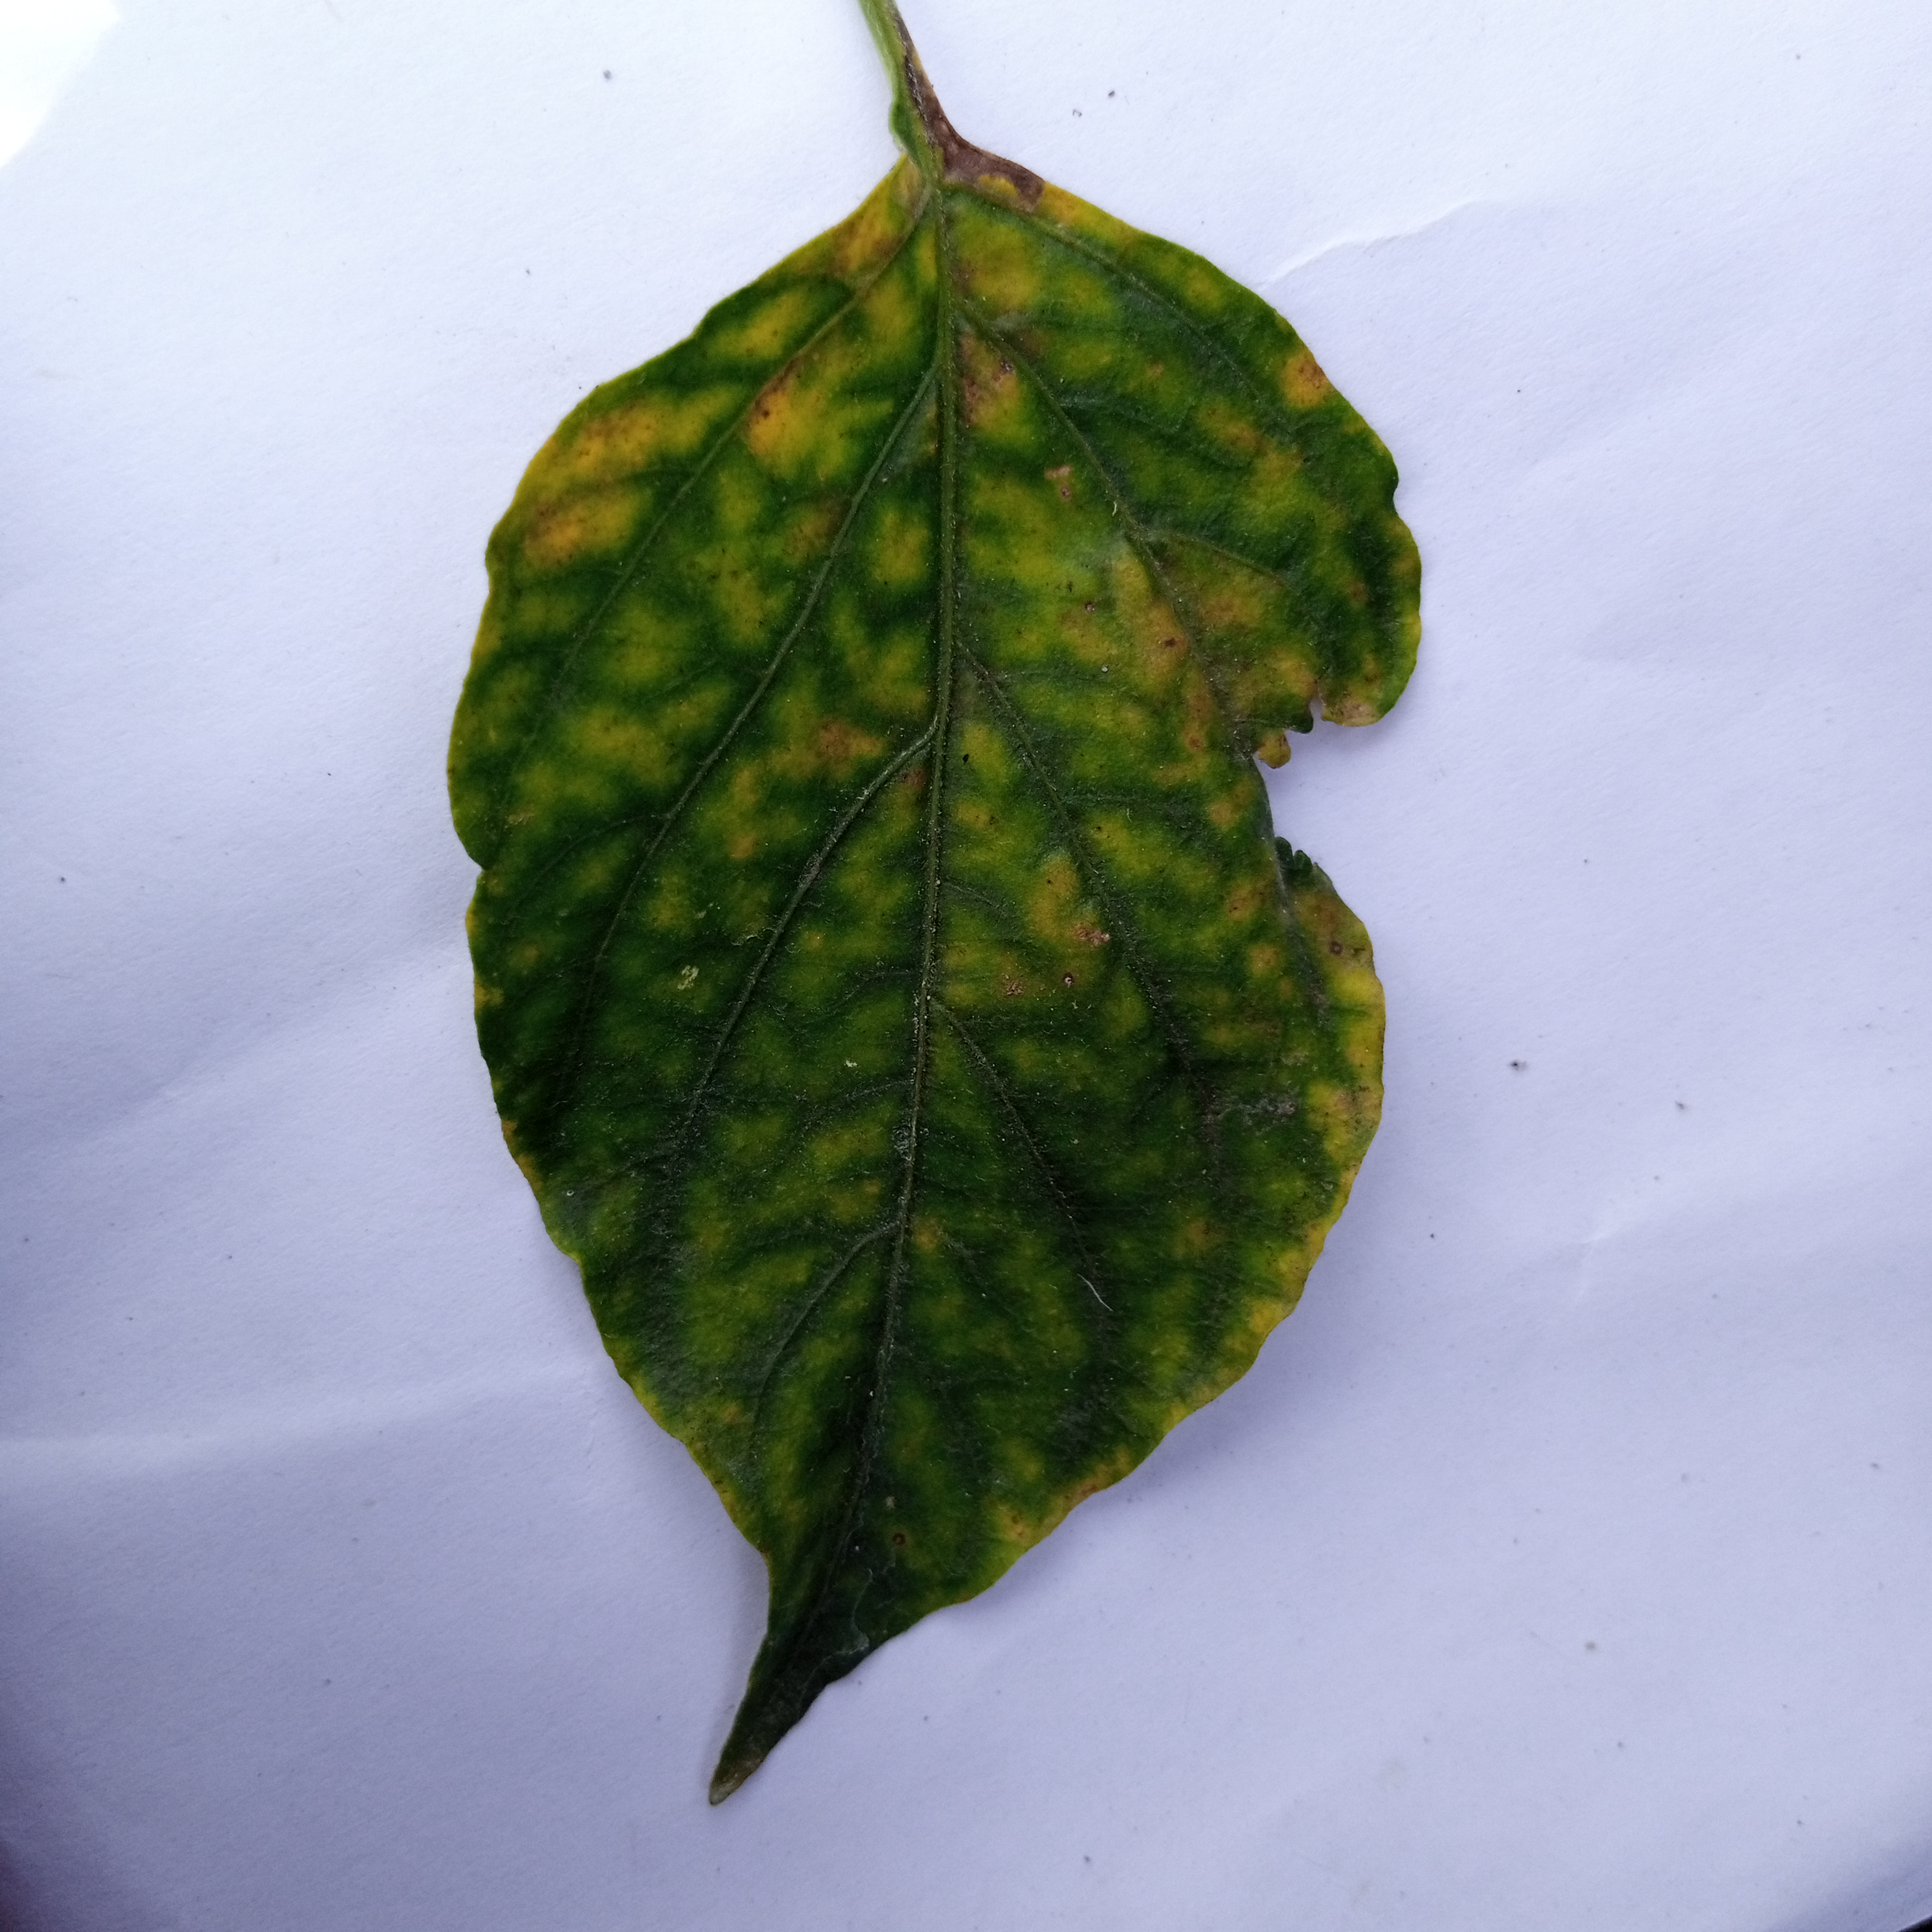Leaf: (331, 127, 1493, 1813)
